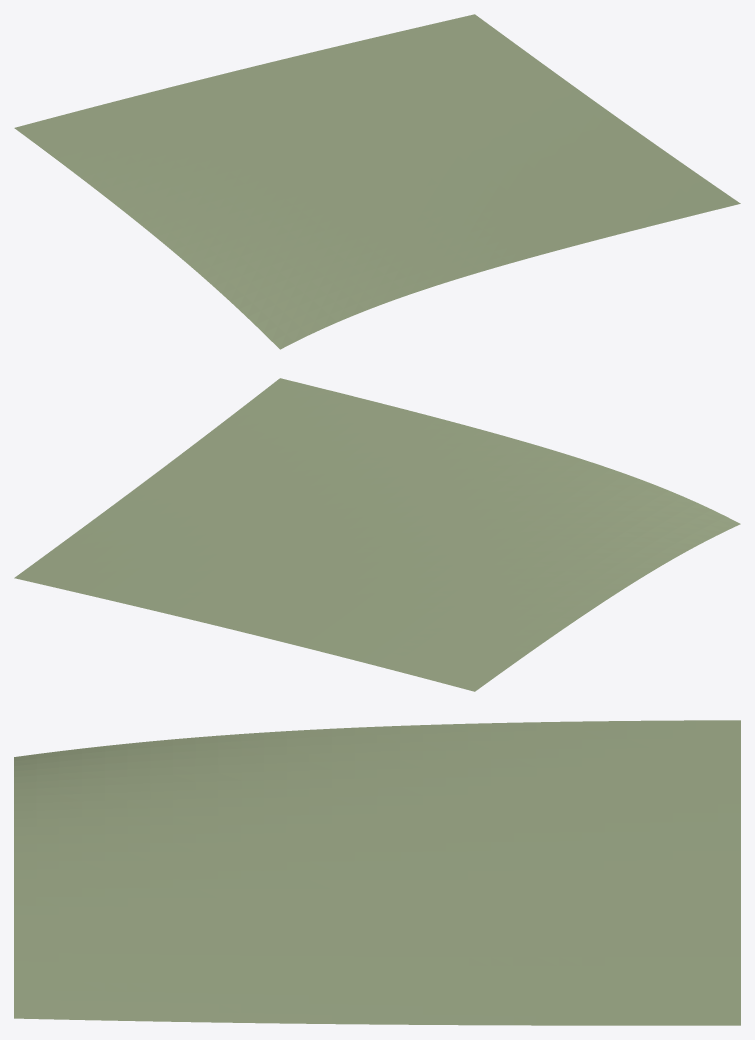
File: expanse-16-0.glb
The picture shows the model from 3 angles, top to bottom: view 1: azimuth 30°, elevation 25°; view 2: azimuth 150°, elevation 25°; view 3: azimuth 270°, elevation 25°; orthographic projection. The views are drawn at different scales.
Visible parts, largest first — view 1: expanse-16-0; view 2: expanse-16-0; view 3: expanse-16-0.
Boxes of the visible parts, <box> form: expanse-16-0: <box>14,14,740,349</box>; expanse-16-0: <box>14,378,740,691</box>; expanse-16-0: <box>14,720,740,1025</box>.
Bounding box in the file's own units: 256 × 17.78 × 256.
